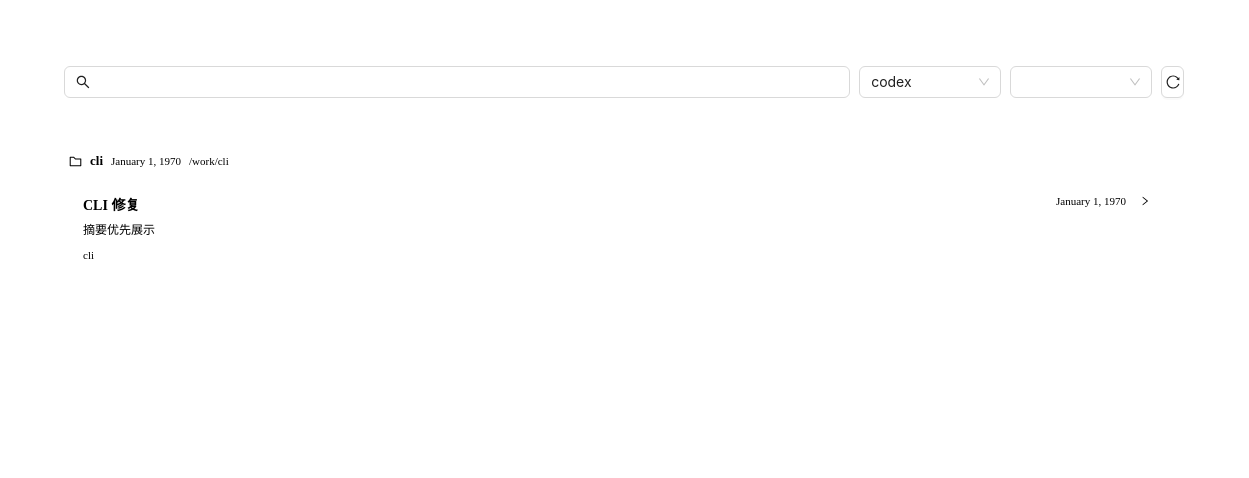
Test: SessionAgentWorkbench redesign › loads and collapses full tool input through the existing content api
The width and height of the screenshot is (1249, 478).
Click the button "CLI 修复 摘要优先展示 cli January 1, 1970": coordinates (111, 206) [65,178,1168,278]
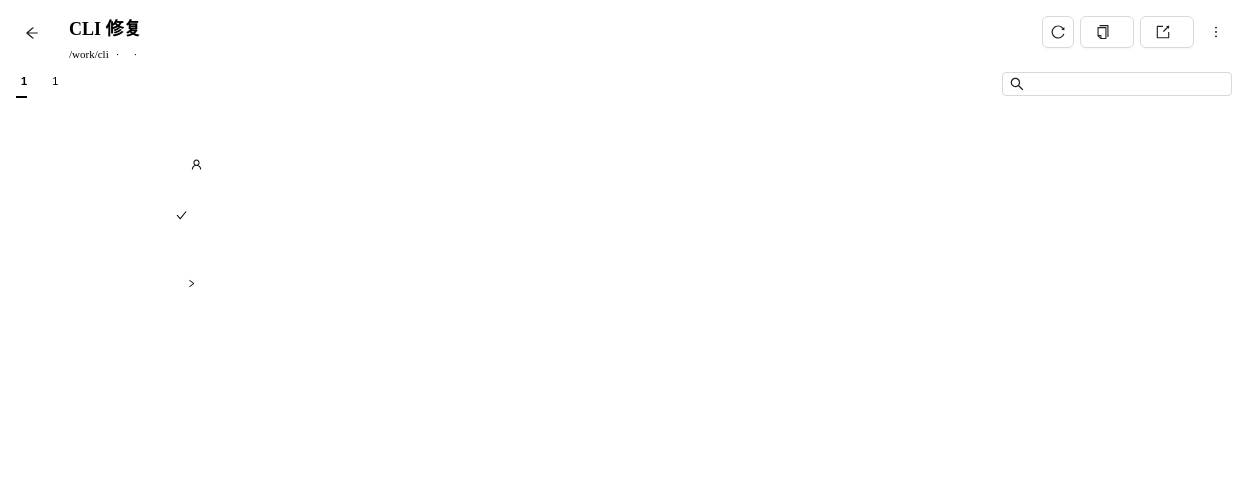
Click the 7th button: coordinates (192, 284) [174,268,1074,299]
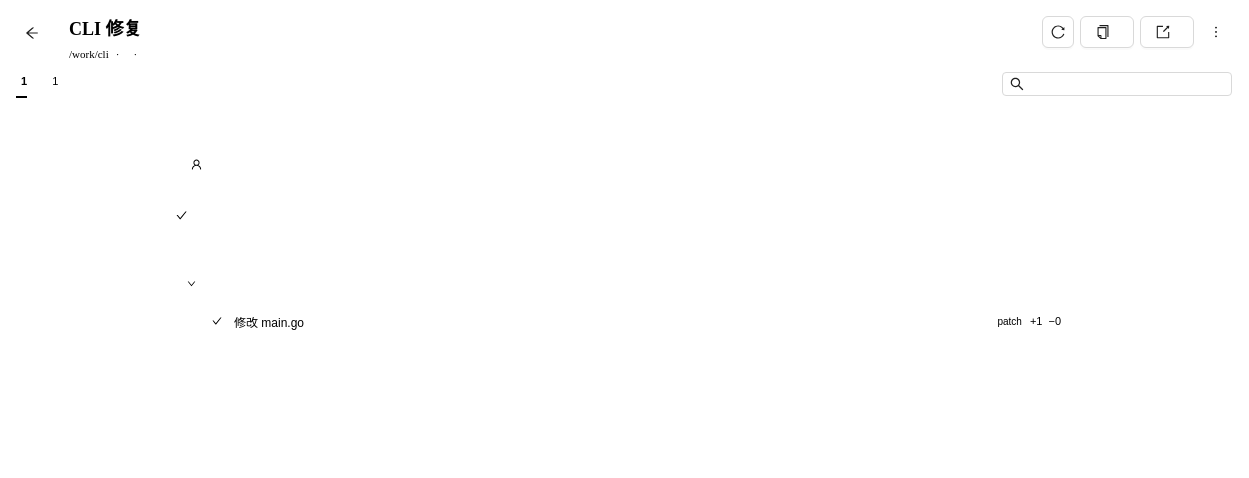
Click the button "修改 main.go patch +1 −0": coordinates (269, 322) [208,302,1061,340]
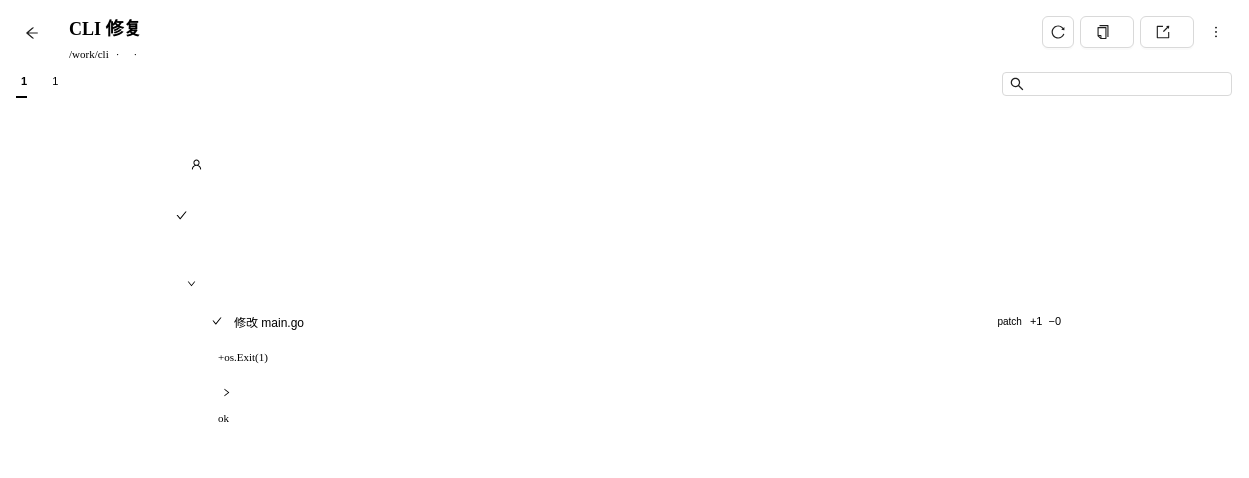
Click the button without text below "+os.Exit(1)": coordinates (226, 392) [222,386,231,399]
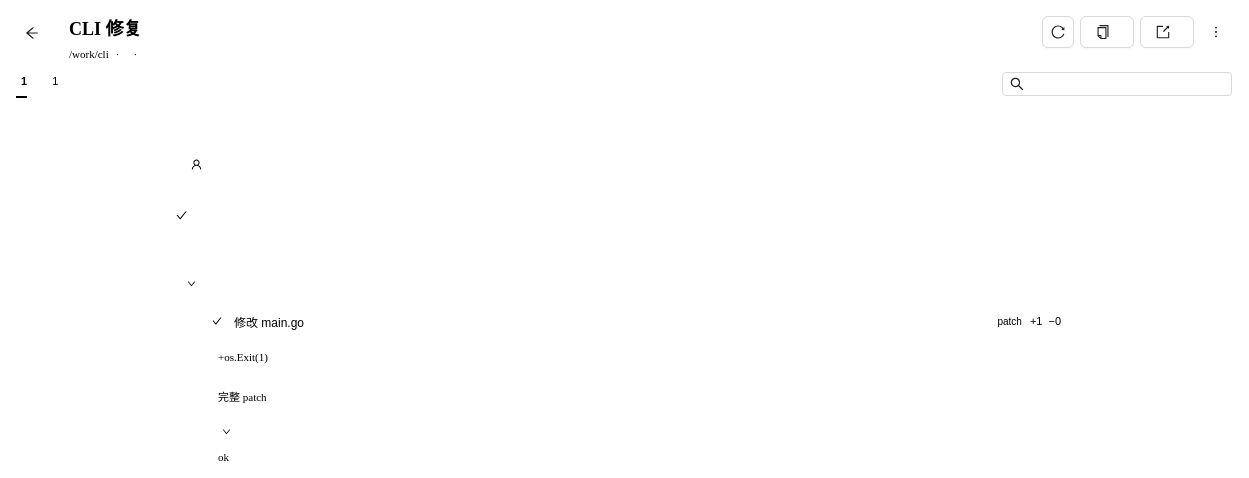
expect the text "完整 patch" is shown: met, box [218,391,267,403]
Click the button without text below "完整 patch": coordinates (226, 432) [222,425,231,438]
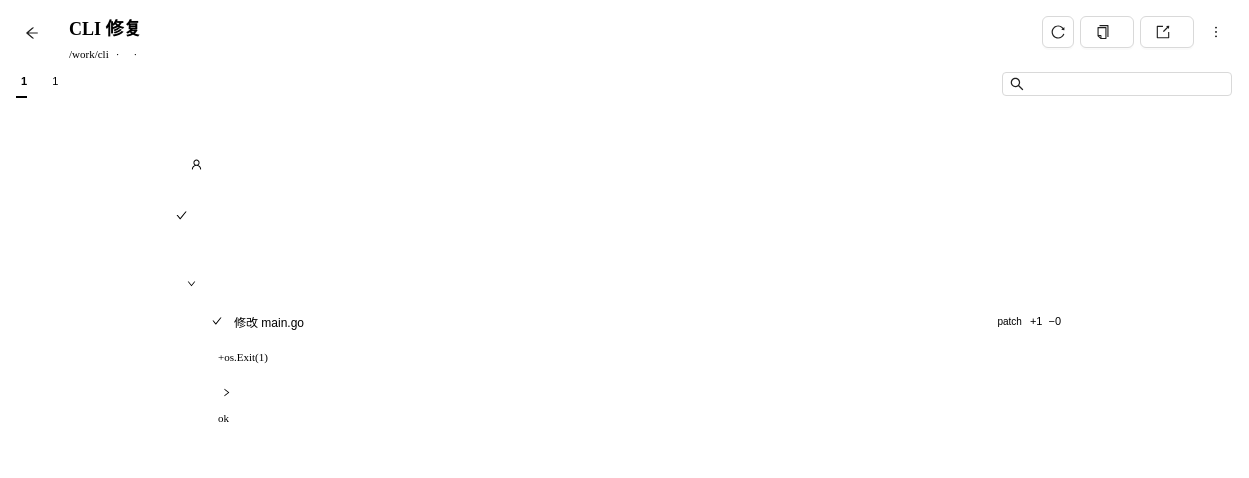
expect the text "完整 patch" is gone: met
